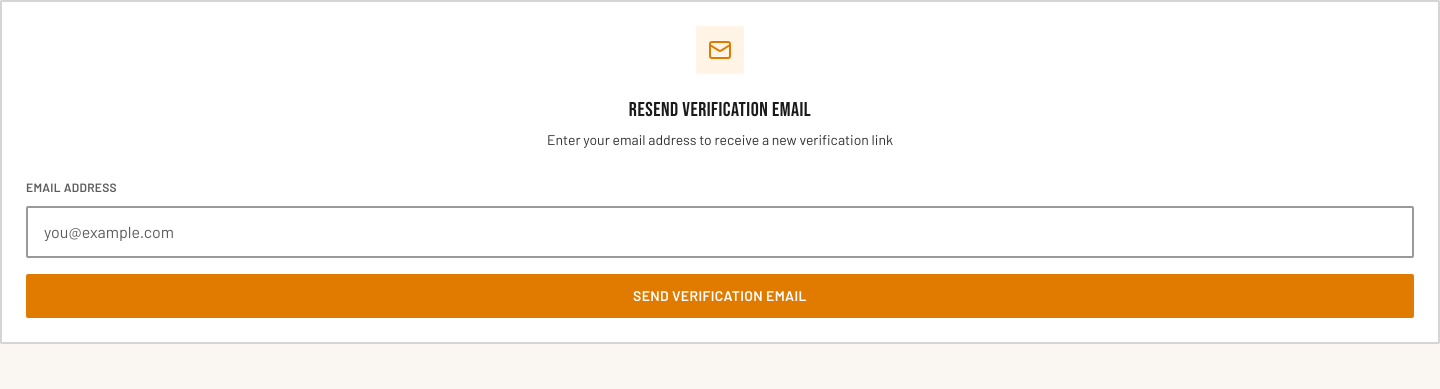
Test case: ResendVerificationForm › Form Validation › should clear validation error when user corrects email
In the field labelled "Email Address": (720, 232) 26,206 -> 1414,258, type "invalid"
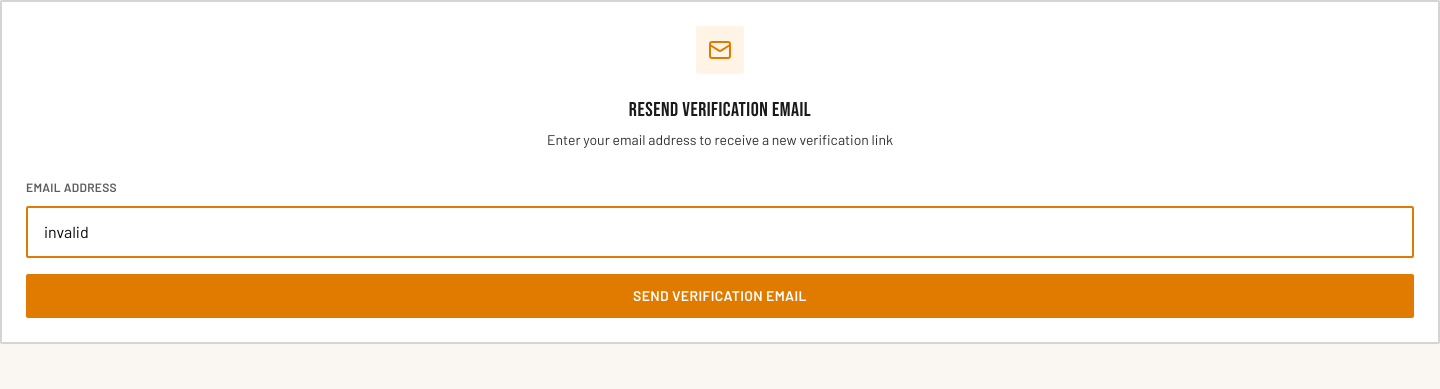
Click the button "Send verification email": click(720, 296) 26,274 -> 1414,318
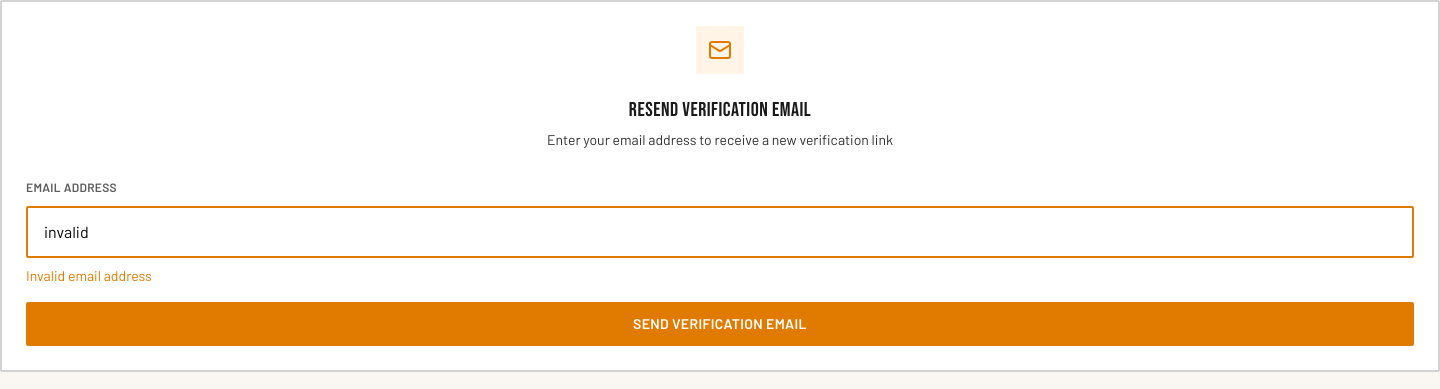
Result: the text "Invalid email address" is shown at 26,267 -> 152,284
Replace the text in the field labelled "Email Address" with "valid@example.com": (720, 232) 26,206 -> 1414,258
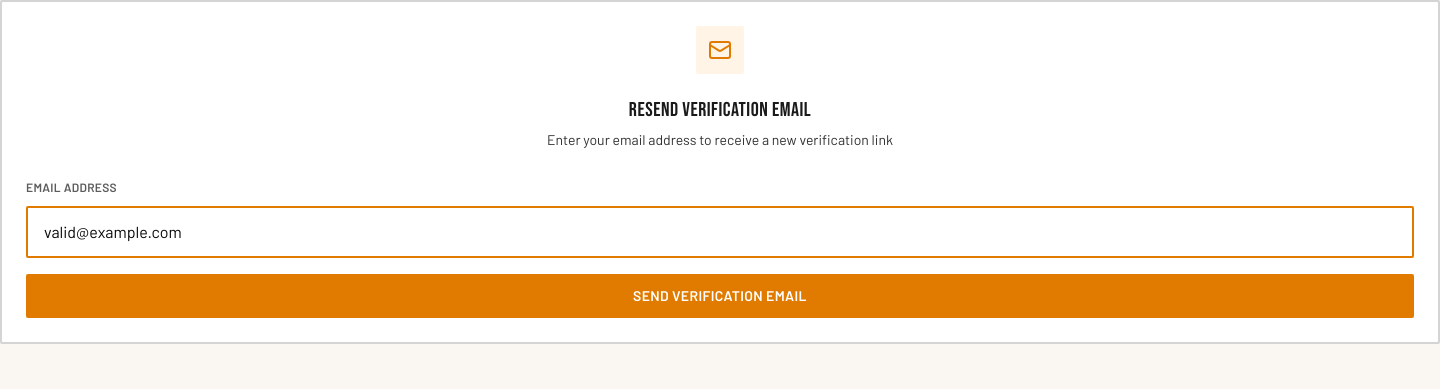
Result: the text "Invalid email address" is gone
